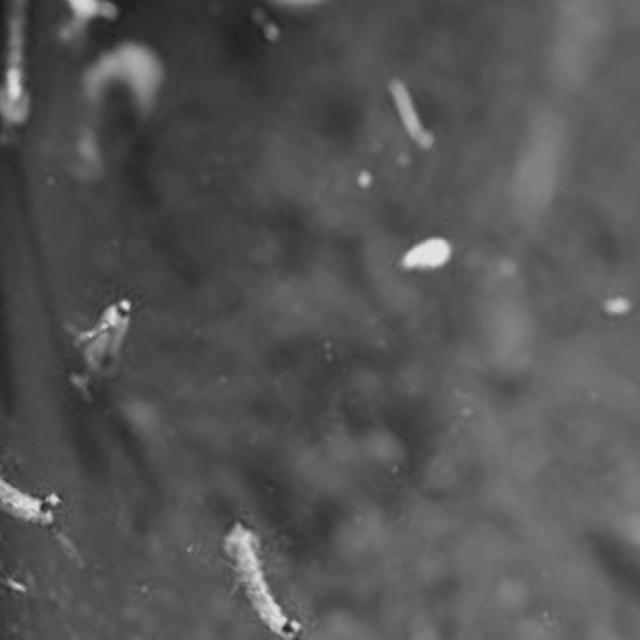larvas: (225, 522, 298, 640), (75, 294, 129, 396), (0, 2, 25, 140), (0, 474, 60, 526), (390, 79, 432, 146)
